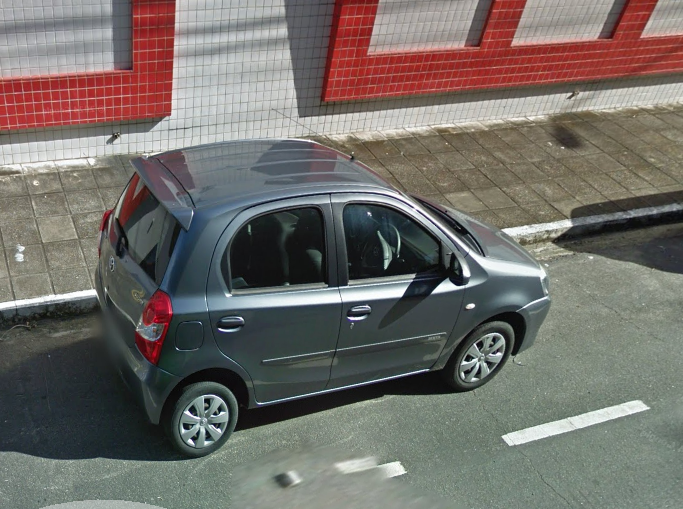car: (92, 107, 553, 461)
